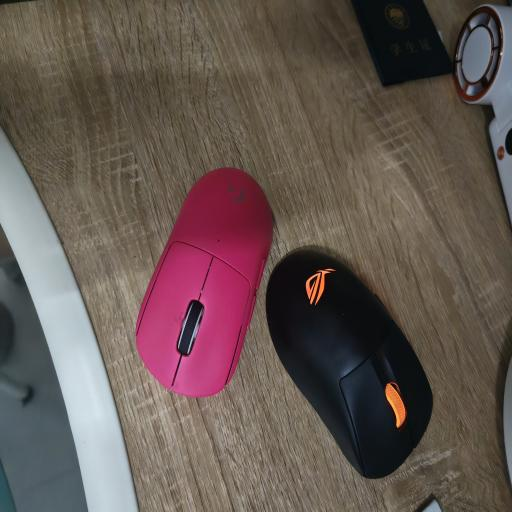mouse: (266, 250, 432, 478), (136, 168, 273, 397)
